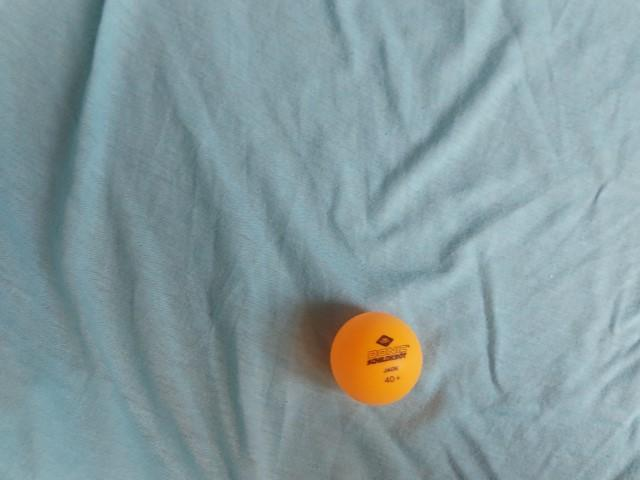oball: (323, 305, 431, 412)
